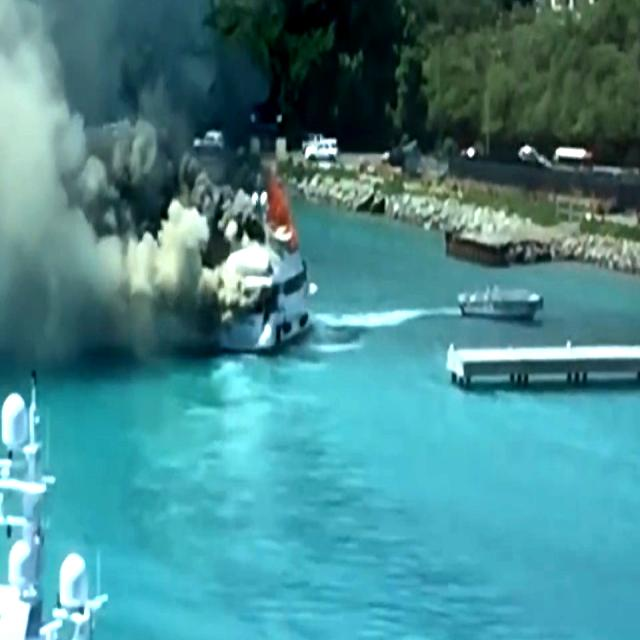smoke: (0, 0, 217, 325)
